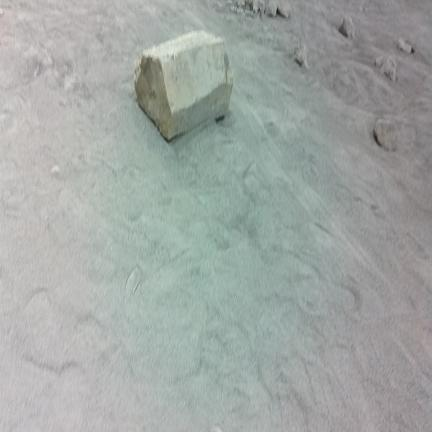Rock: (135, 31, 233, 140), (374, 120, 396, 150), (375, 55, 396, 80), (125, 266, 142, 293), (339, 17, 354, 38), (295, 45, 308, 69), (277, 0, 291, 18), (398, 38, 414, 53), (266, 0, 277, 16), (258, 0, 265, 17), (245, 0, 253, 11), (51, 165, 60, 174), (253, 0, 258, 13), (238, 0, 245, 8), (230, 6, 237, 12), (0, 8, 3, 16)
